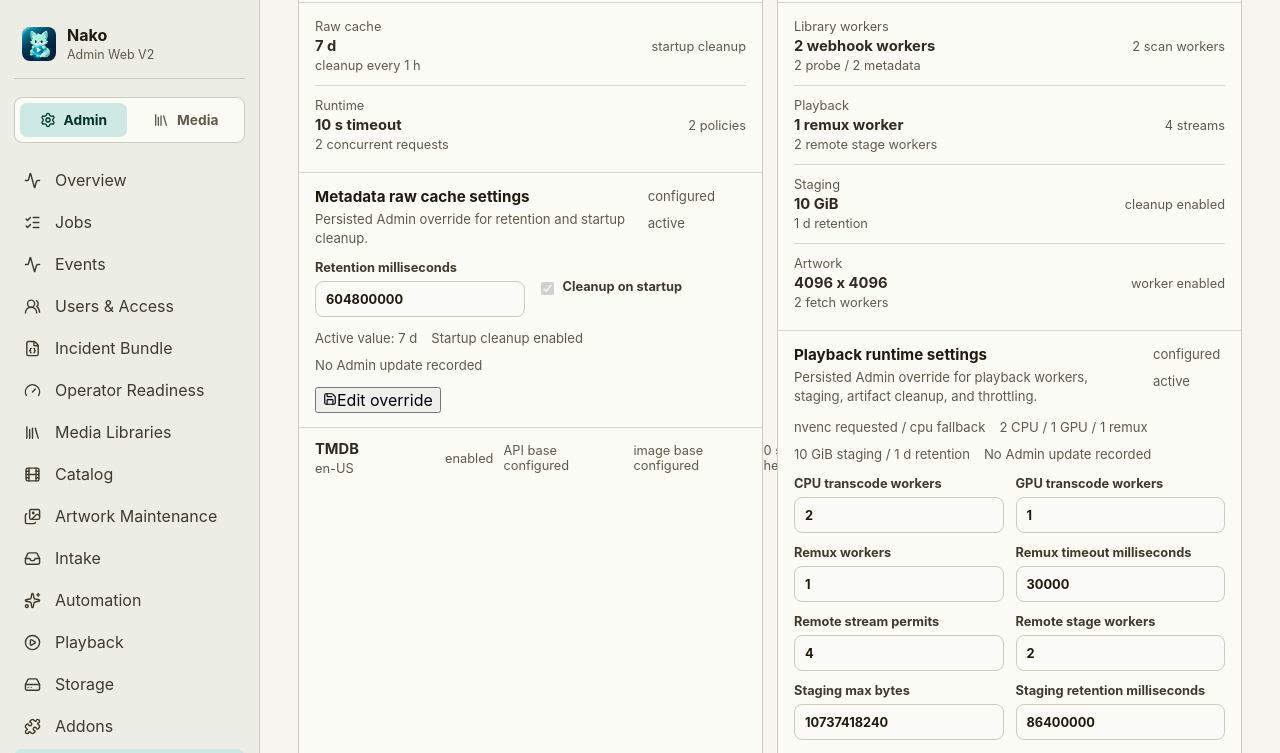
Admin Web V2 route shell › shows a visible error when metadata raw cache settings save fails
This screenshot has width=1280, height=753.
(page scrolled)
Check: the text "Metadata raw cache settings" is shown, box [315, 187, 530, 206]
Click the button "Edit override" at [378, 400], box [315, 387, 441, 413]
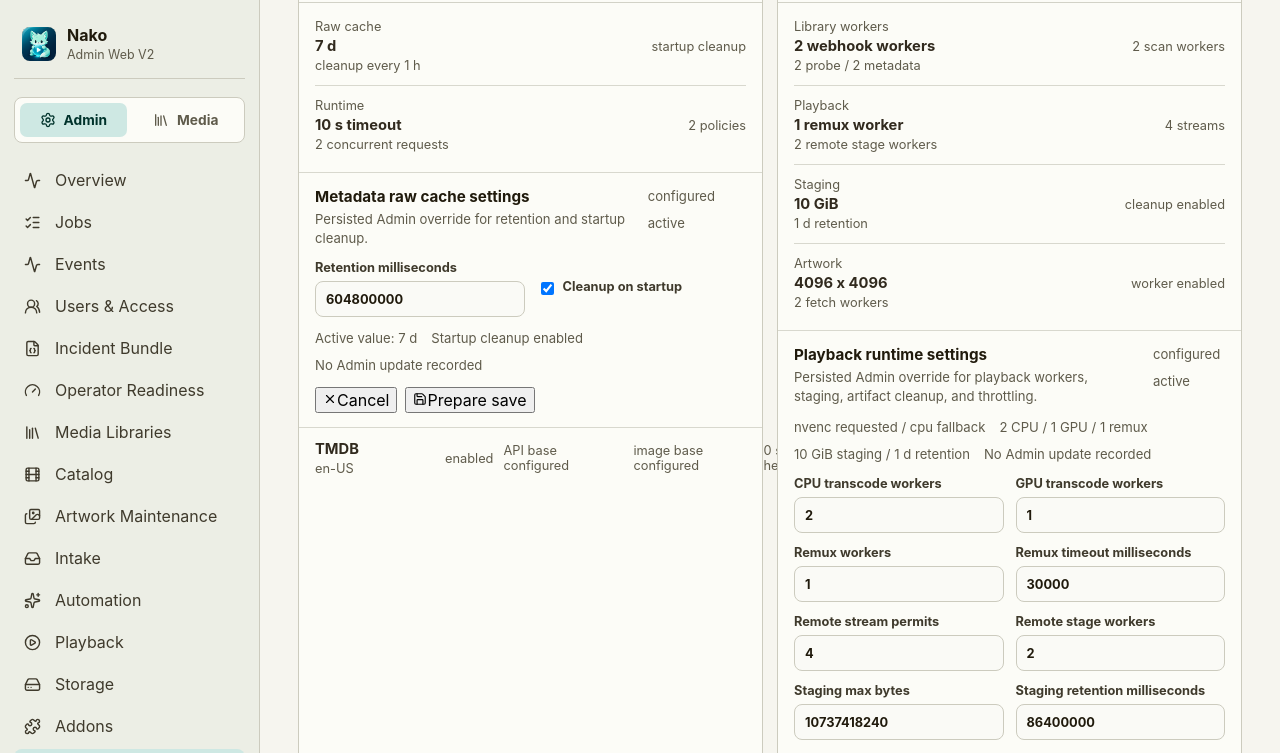
Replace the text in the number field labelled "Retention milliseconds" with "3600000" at [420, 299], box [315, 281, 524, 317]
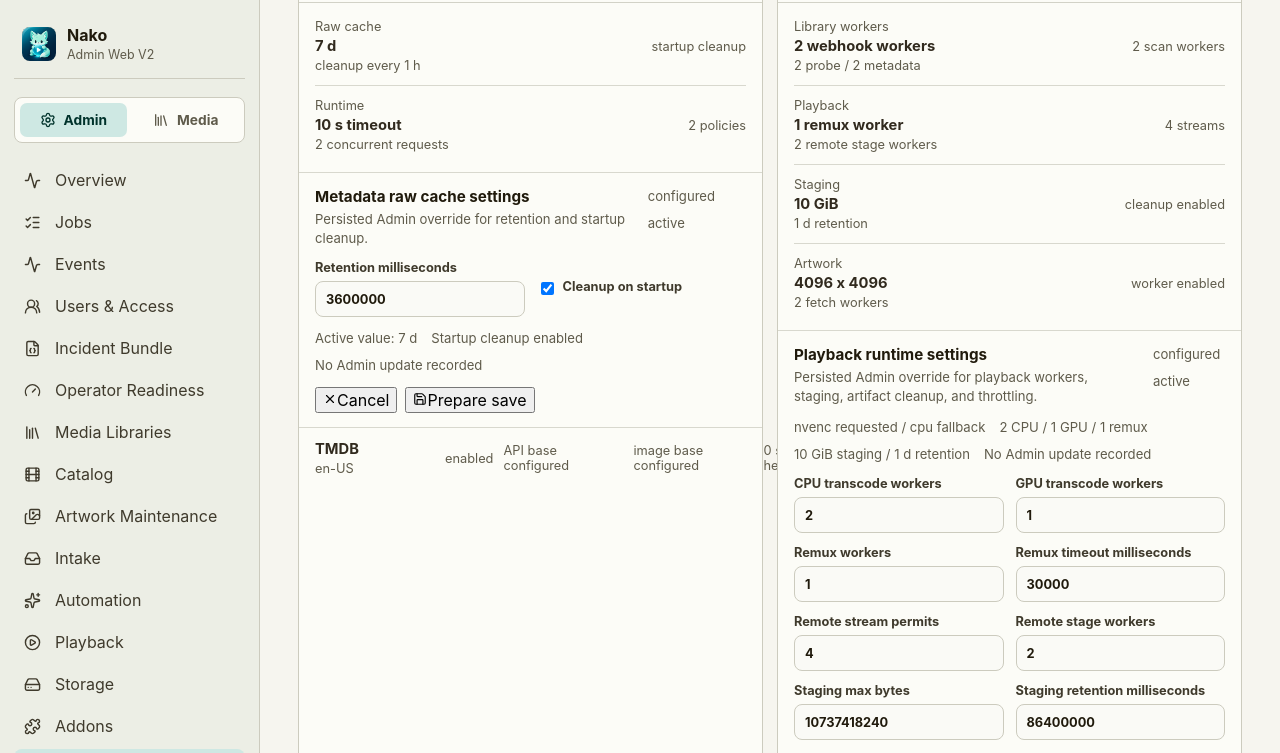
Click the button "Prepare save" at [470, 400], box [406, 387, 534, 413]
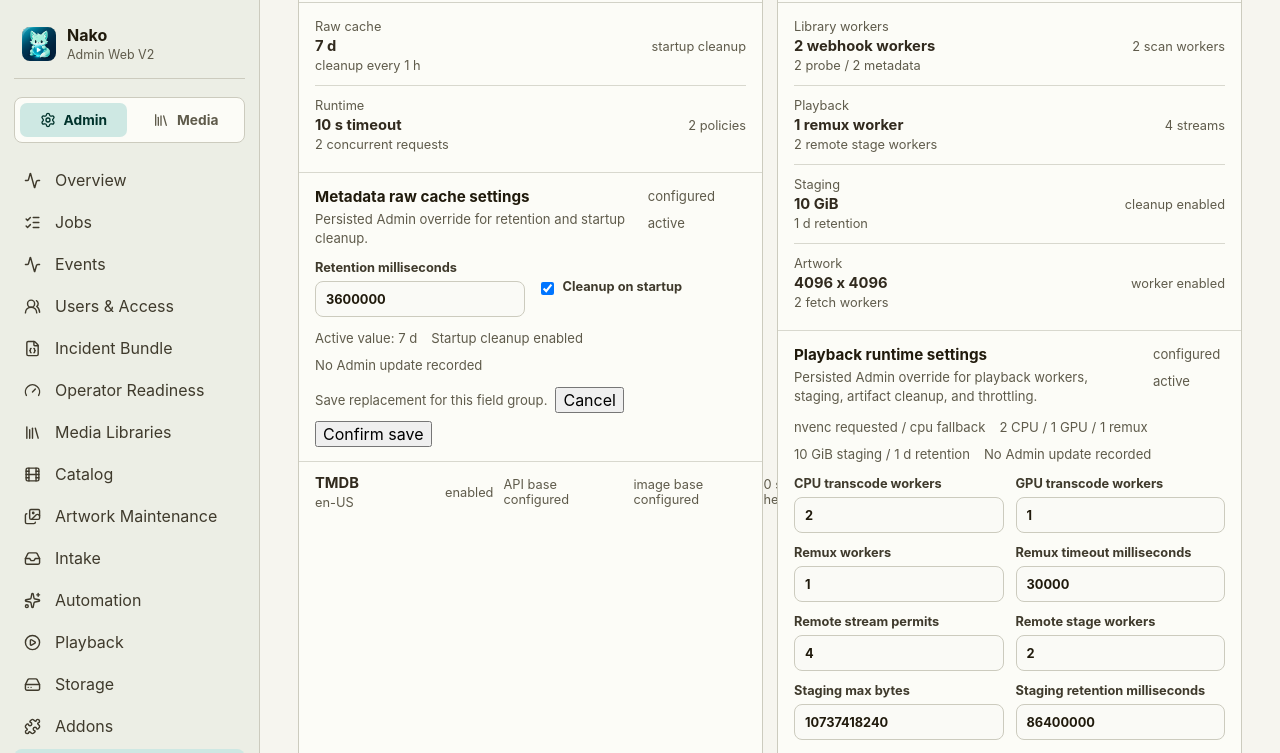
Click the button "Confirm save" at [373, 434], box [315, 421, 432, 447]
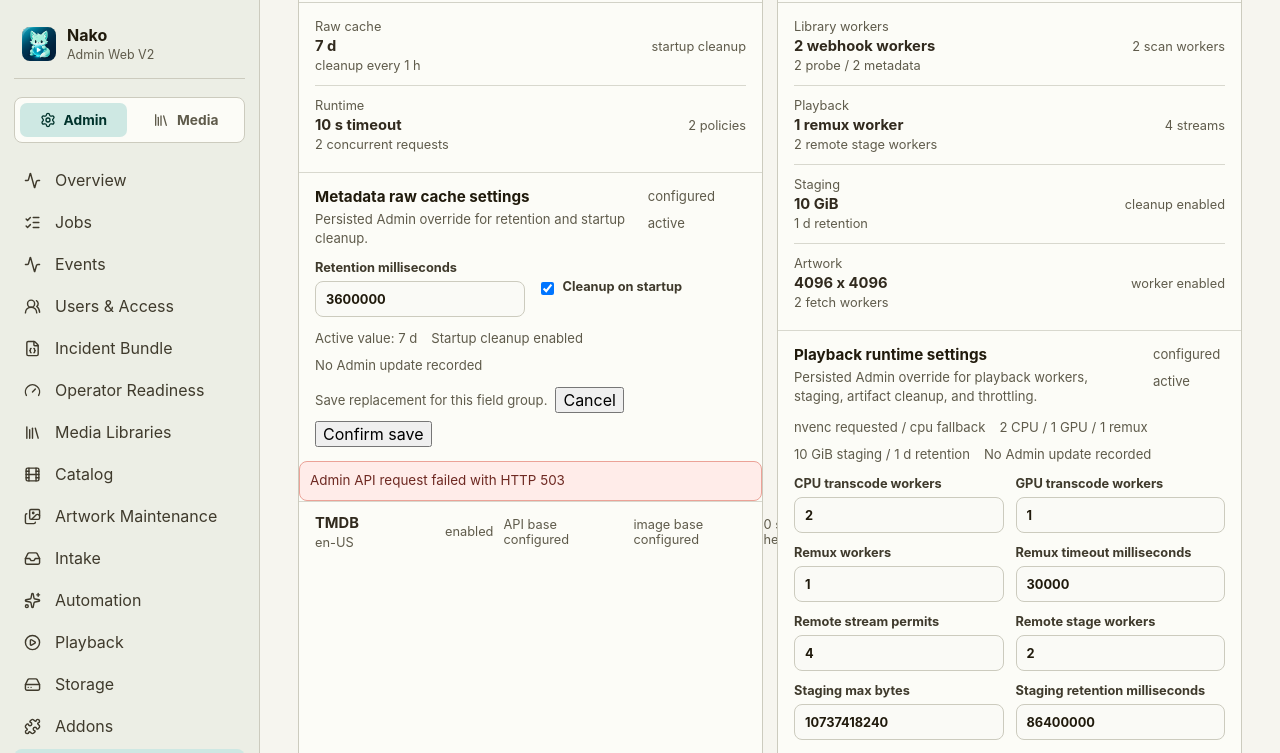
Check: the text "Admin API request failed with HTTP 503" is shown, box [299, 461, 762, 501]
